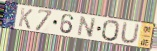6: (59, 13, 74, 35)
7: (35, 8, 54, 33)
K: (18, 6, 35, 30)
N: (76, 15, 98, 39)
O: (101, 19, 121, 43)
U: (120, 22, 141, 46)
